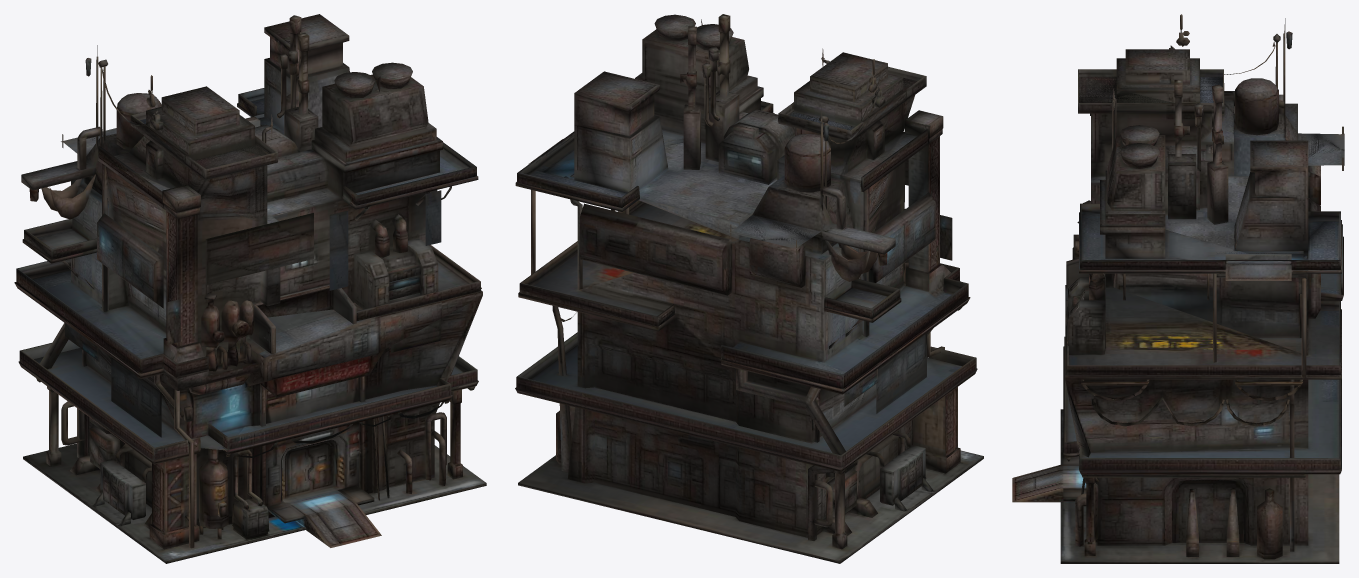
File: 019eb035-6f5a-72ba-a0a7-24bdfa27e166.glb
3 views of the same model, side by side, from view 1: azimuth 30°, elevation 25°; view 2: azimuth 150°, elevation 25°; view 3: azimuth 270°, elevation 25° (orthographic). The views are drawn at different scales.
Parts seen in each view (by area): view 1: tripo_node_95954663-3899-4159-ba64-e222f9bdef94; view 2: tripo_node_95954663-3899-4159-ba64-e222f9bdef94; view 3: tripo_node_95954663-3899-4159-ba64-e222f9bdef94.
Part boxes in pixels (x1,y1,x2,y2): tripo_node_95954663-3899-4159-ba64-e222f9bdef94: (14, 14, 486, 563); tripo_node_95954663-3899-4159-ba64-e222f9bdef94: (515, 14, 983, 563); tripo_node_95954663-3899-4159-ba64-e222f9bdef94: (1012, 14, 1344, 563).
Bounding box in the file's own units: 0.8574 × 0.998 × 0.709.
Materials: 1 (1 with a texture image).
